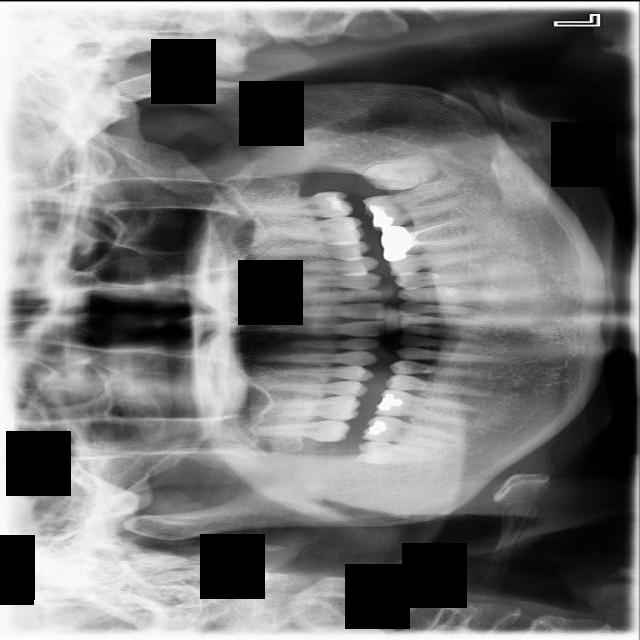52: (359, 186, 407, 238), (305, 187, 355, 222), (360, 411, 405, 447), (380, 223, 418, 262), (373, 387, 416, 417)
73: (407, 212, 481, 255), (562, 22, 572, 28)
BioHorizons Implant: (238, 189, 355, 223)
Biomet 3i Implant: (360, 144, 444, 203)
Blue Sky Bio Implant: (361, 183, 466, 231)
Caries: (253, 418, 352, 445)
Implant: (361, 413, 462, 448)
Keystone Dental Implant: (355, 439, 447, 469)
